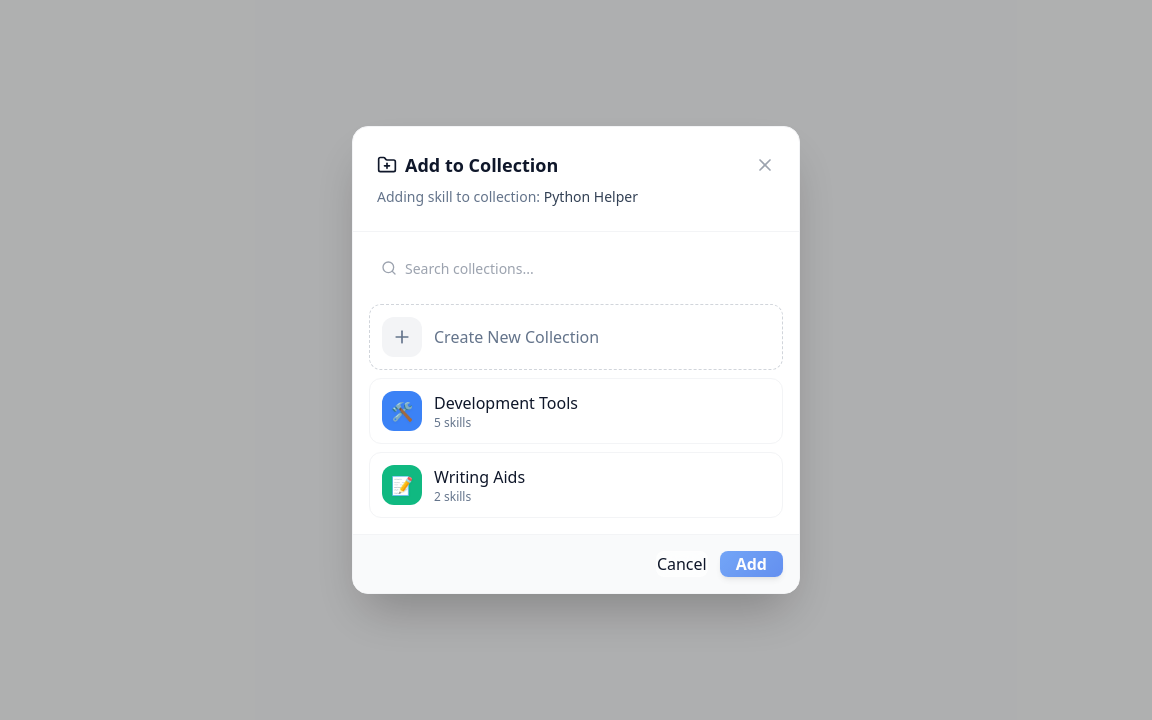
AddToCollectionModal › filters collections based on search query
This screenshot has width=1152, height=720.
In the field with placeholder "Search collections...": (576, 268) [369,248,783,288], type "Writing"
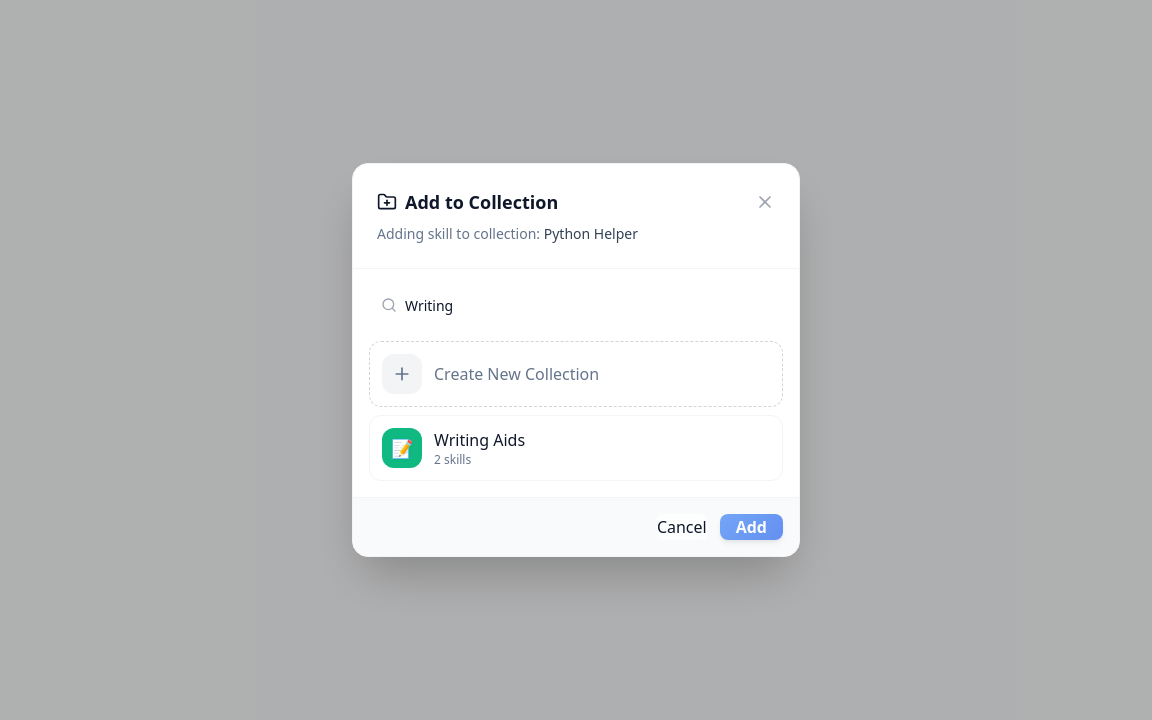
expect the text "Writing Aids" is shown: met, box [434,429,525,451]
expect the button "Development Tools" is gone: met
